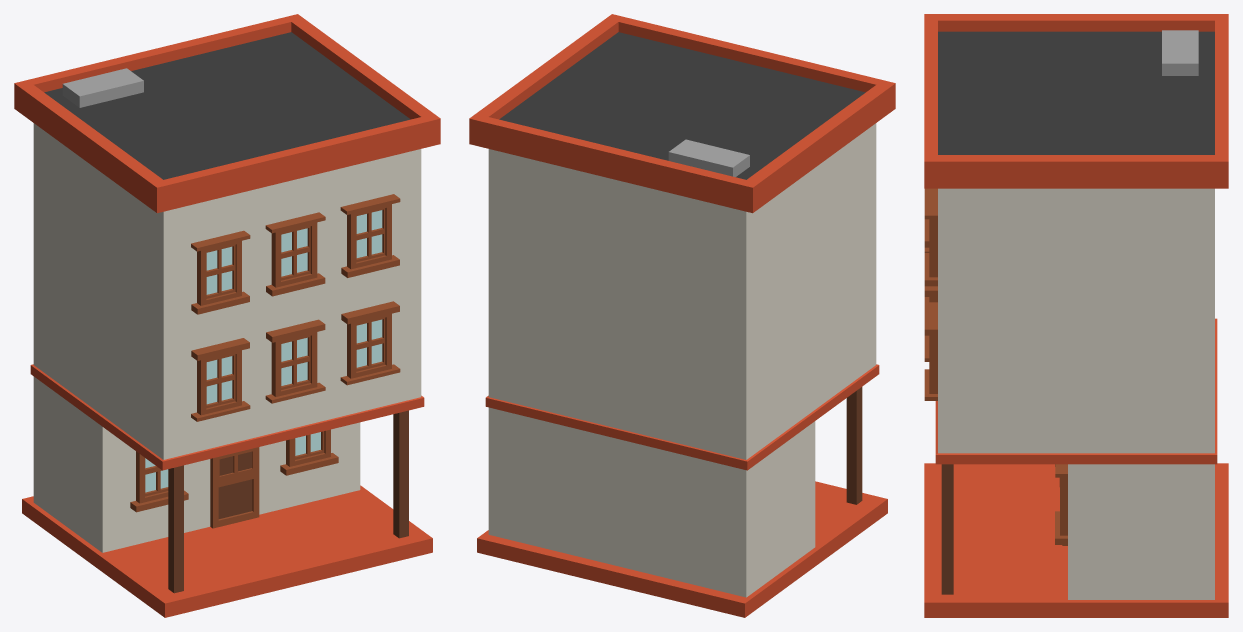
The model's file is flat2.glb.
The picture shows the model from 3 angles, left to right: view 1: azimuth 30°, elevation 25°; view 2: azimuth 150°, elevation 25°; view 3: azimuth 270°, elevation 25°; orthographic projection. The views are drawn at different scales.
Visible parts, largest first — view 1: Flat2; view 2: Flat2; view 3: Flat2.
Boxes of the visible parts, x1,y1,x2,y2 form: Flat2: (14, 14, 440, 617); Flat2: (469, 14, 895, 617); Flat2: (924, 14, 1228, 617).
Size of the model in its own units: 2.17 by 3.17 by 1.89.
Materials: 1 (1 with a texture image).
